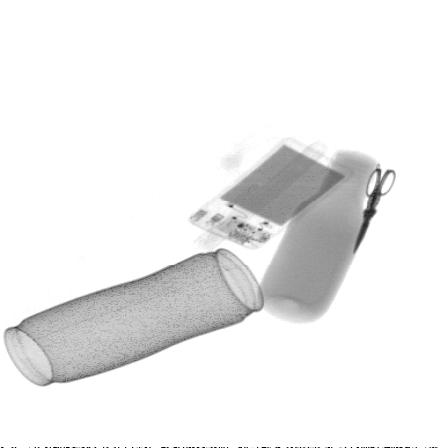Powerbank: (188, 136, 354, 251)
Scissors: (346, 167, 396, 261)
